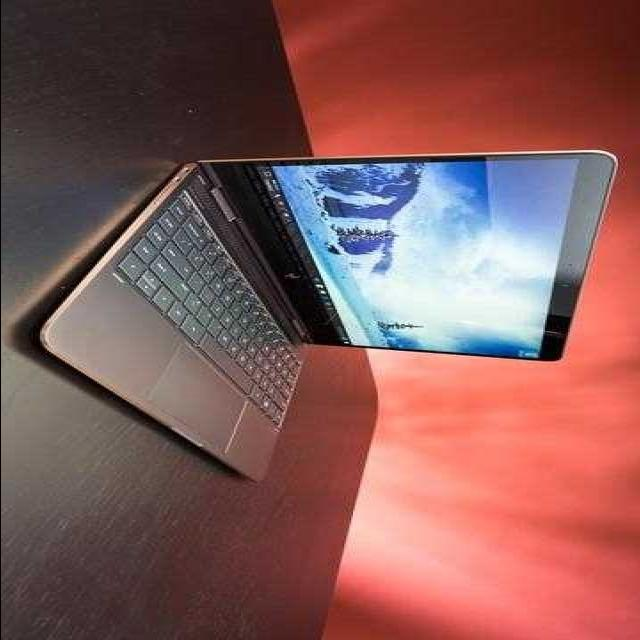laptop: (60, 147, 599, 440)
